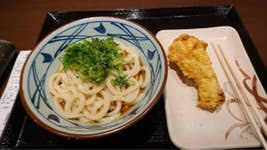bukkake: (24, 18, 162, 135)
